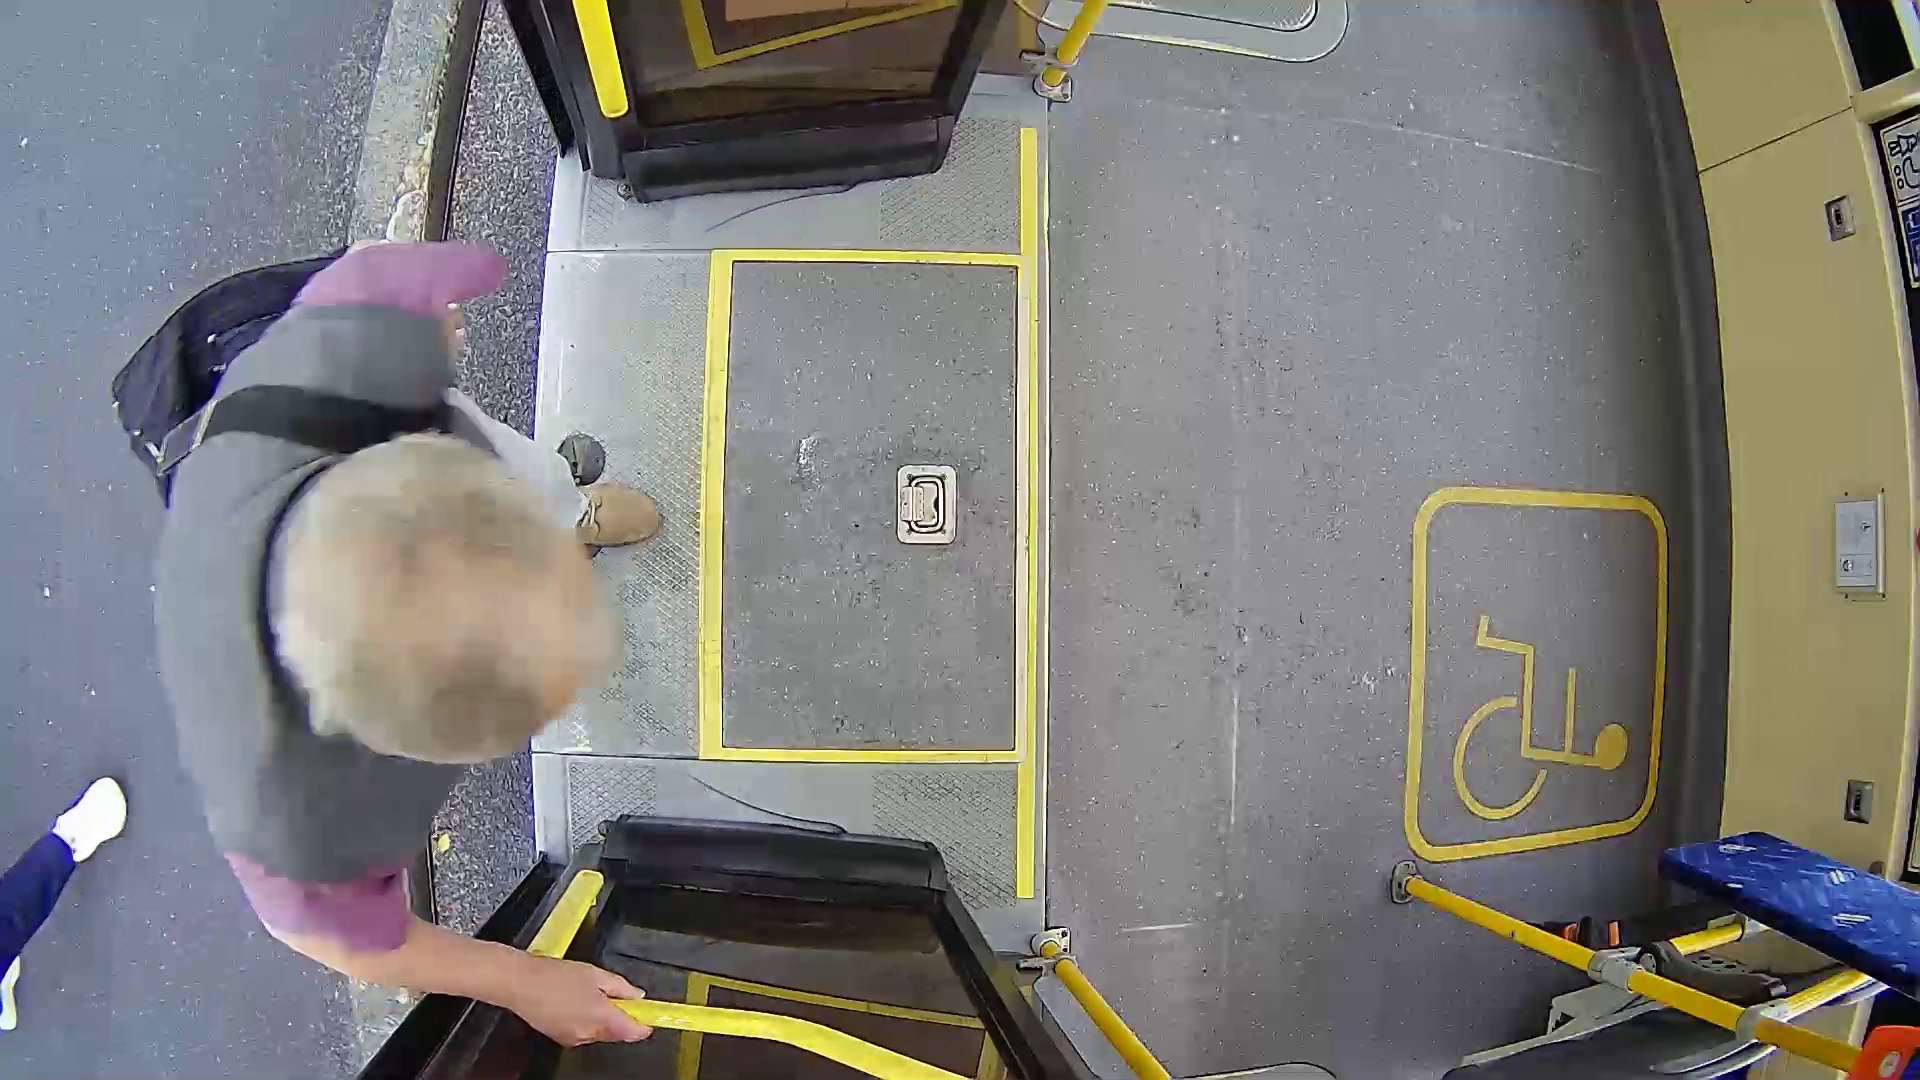person: (77, 227, 736, 1022)
